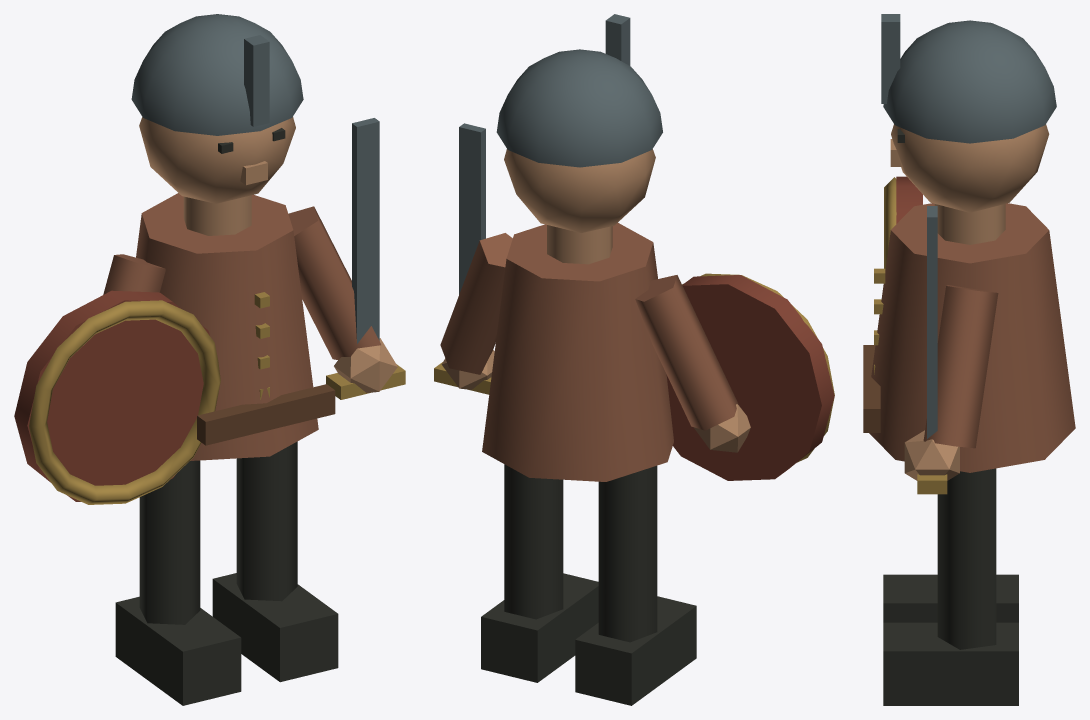
Rendered from custom-person-swordsman.glb.
The picture shows the model from 3 angles, left to right: view 1: azimuth 30°, elevation 25°; view 2: azimuth 150°, elevation 25°; view 3: azimuth 270°, elevation 25°; orthographic projection. The views are drawn at different scales.
Parts seen in each view (by area): view 1: custom-person-swordsman; view 2: custom-person-swordsman; view 3: custom-person-swordsman.
Boxes of the visible parts, x1=… form: custom-person-swordsman: x1=14, y1=14, x2=405, y2=705; custom-person-swordsman: x1=434, y1=14, x2=834, y2=705; custom-person-swordsman: x1=863, y1=14, x2=1075, y2=705.
Size of the model in its own units: 1 by 1.58 by 0.4692.
